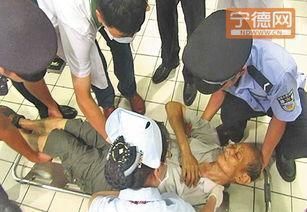Fall-Detected: (131, 92, 270, 209)
